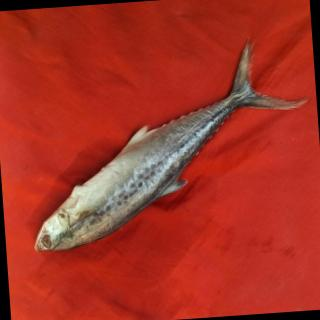Ikan: (19, 27, 320, 265)
